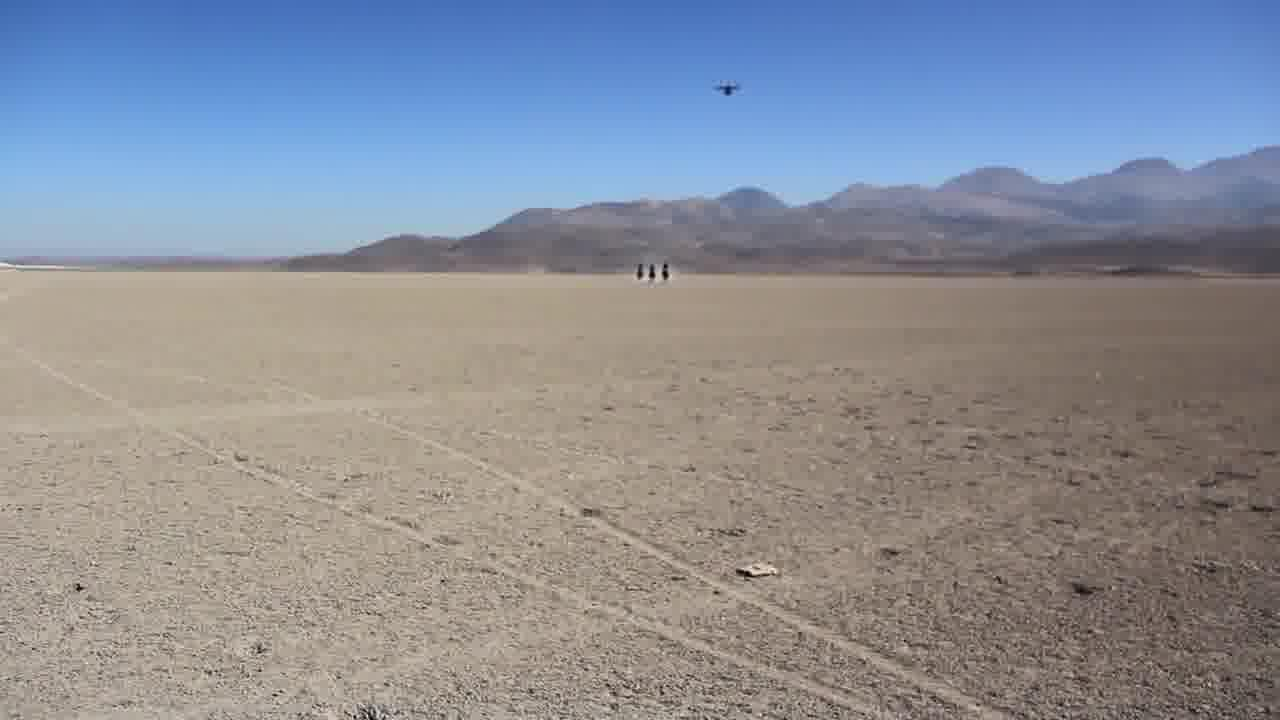drone: (712, 75, 744, 100)
